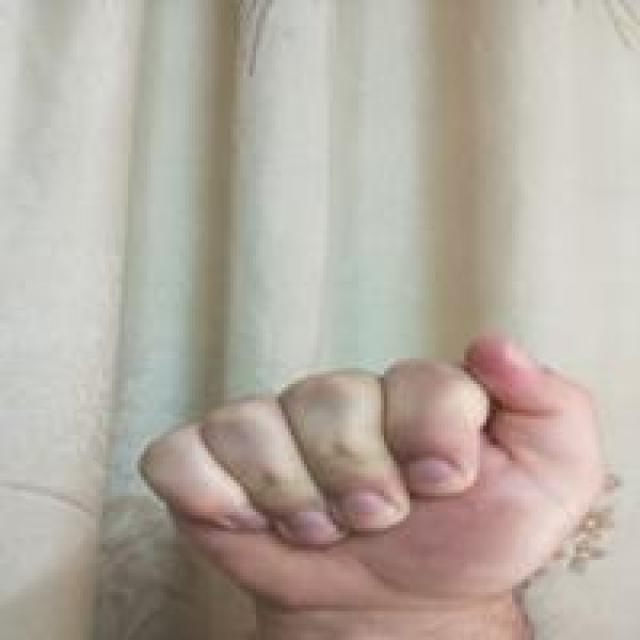A: (133, 326, 616, 621)
